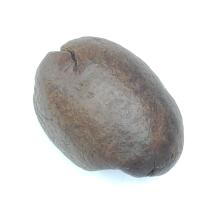NG: (87, 156, 170, 180), (46, 40, 82, 74)
